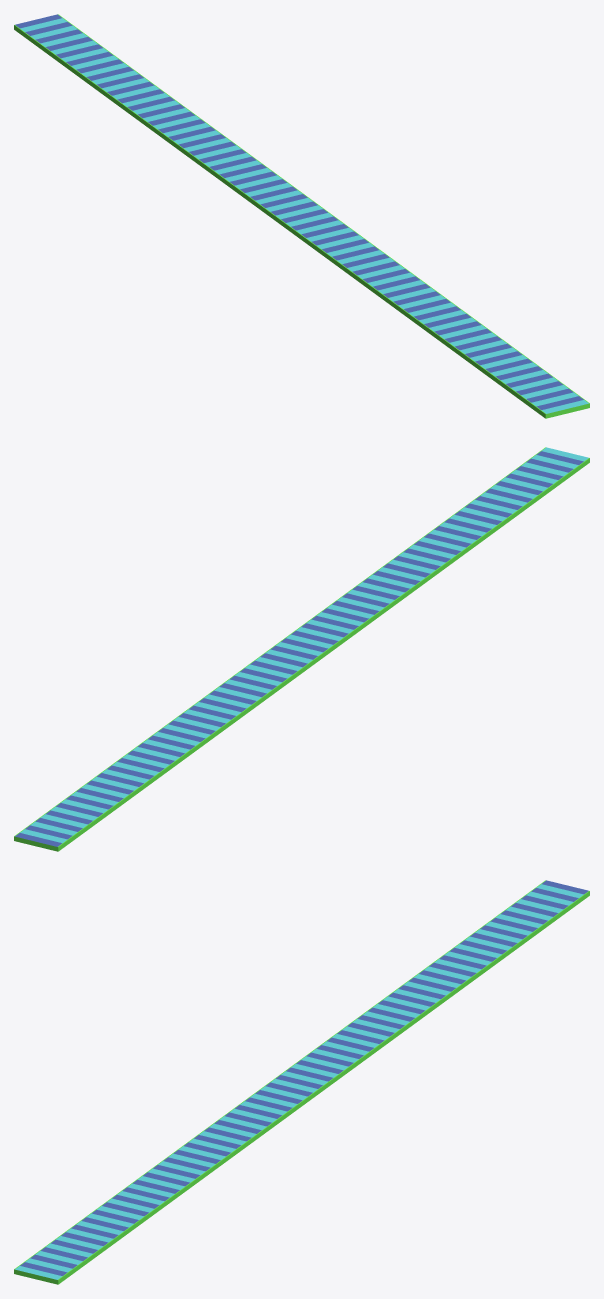
Rendered from Road208mForLevel1.fbx.
3 renders of one model, top to bottom at view 1: azimuth 30°, elevation 25°; view 2: azimuth 150°, elevation 25°; view 3: azimuth 330°, elevation 25°, orthographic.
Visible parts, largest first — view 1: Platforn; view 2: Platforn; view 3: Platforn.
Part boxes in pixels (bbox=[...]): Platforn: bbox=[14, 14, 589, 418]; Platforn: bbox=[14, 447, 589, 851]; Platforn: bbox=[14, 880, 589, 1284].
Bounding box in the file's own units: 1000 × 100 × 20800.
